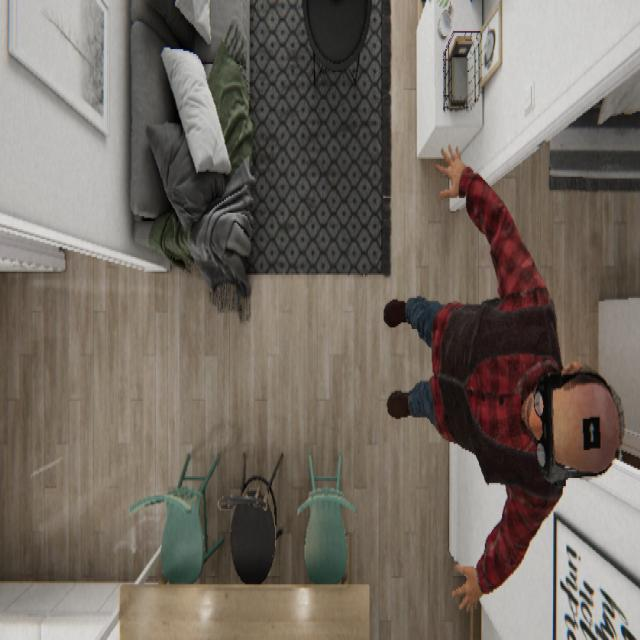Human: (382, 141, 624, 612)
UnityLogo: (581, 413, 601, 450)
